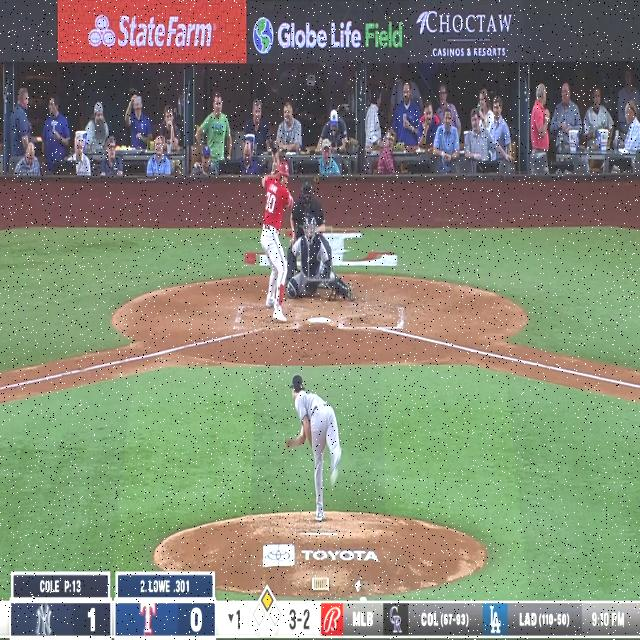baseball: (330, 272, 335, 281)
